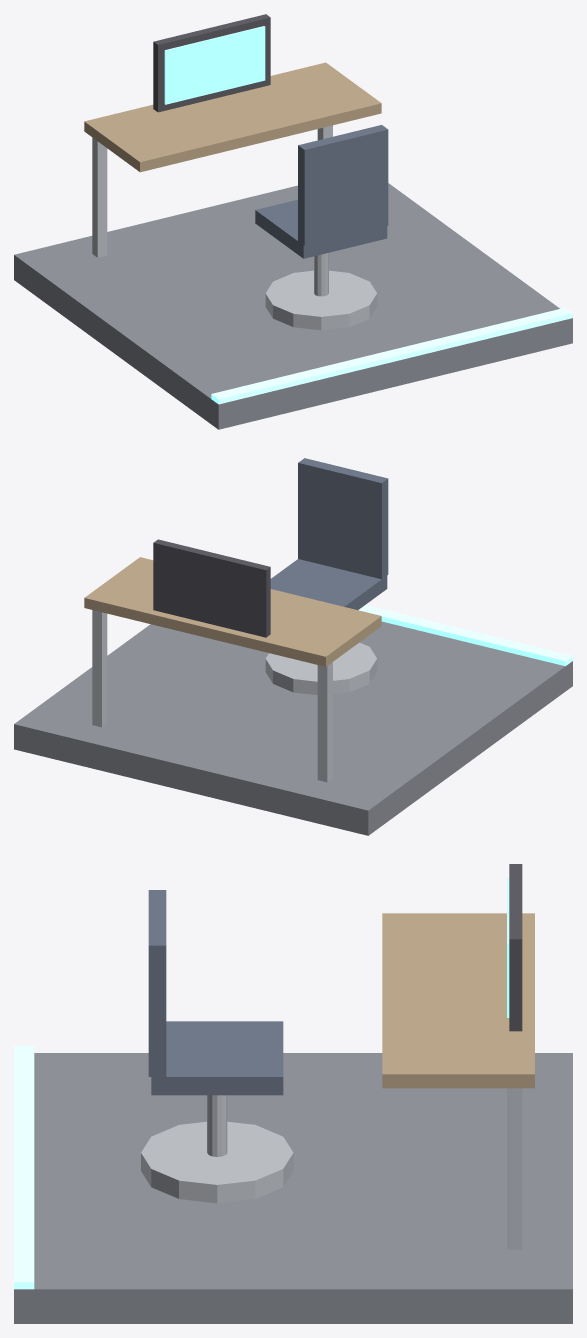
The model's file is wing-instructor-n.glb.
3 renders of one model, top to bottom at view 1: azimuth 30°, elevation 25°; view 2: azimuth 150°, elevation 25°; view 3: azimuth 270°, elevation 25°, orthographic. The views are drawn at different scales.
Parts seen in each view (by area): view 1: Instructor seat; view 2: Instructor seat; view 3: Instructor seat.
Boxes of the visible parts, x1,y1,x2,y2 form: Instructor seat: [14, 14, 572, 429]; Instructor seat: [14, 458, 572, 835]; Instructor seat: [14, 864, 572, 1323].
Bounding box in the file's own units: 2.2 × 1.32 × 2.2.
